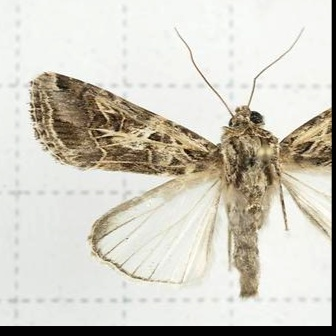Spodoptera litura: (26, 27, 330, 300)
